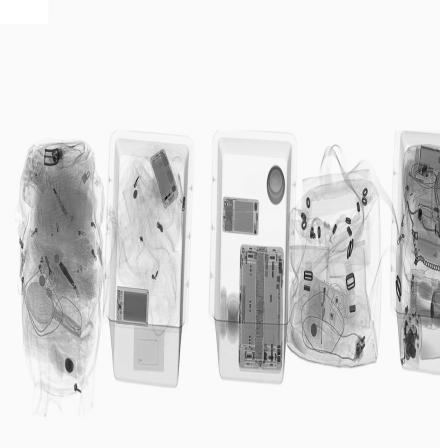Powerbank: (116, 287, 149, 328)
